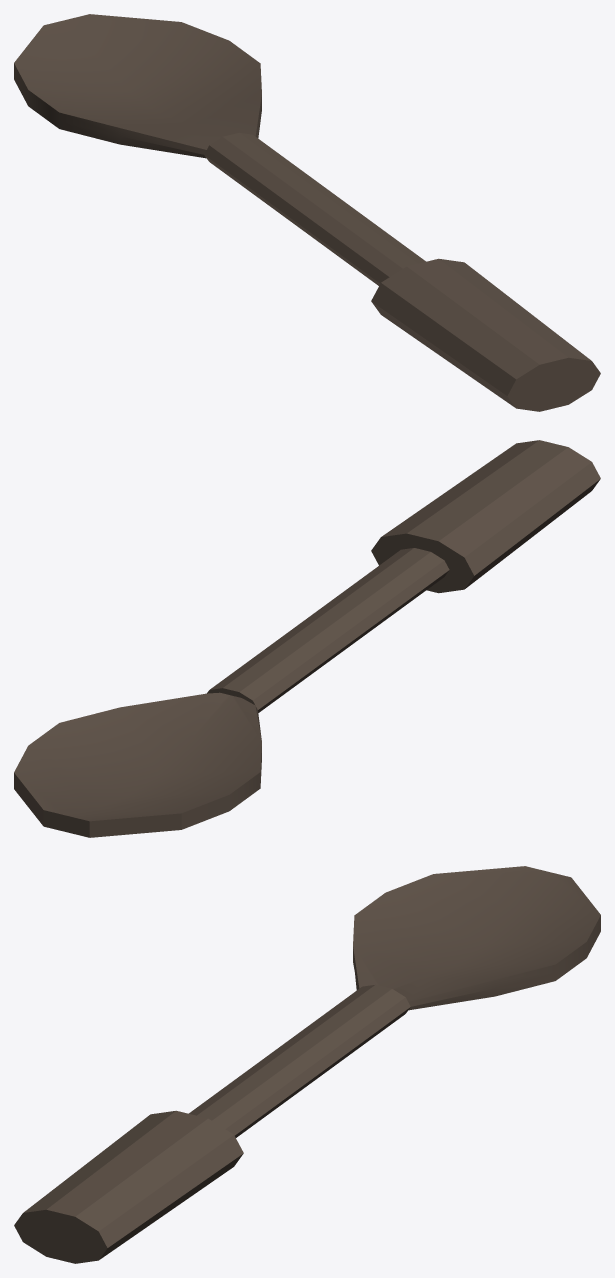
File: Spoon.fbx
The picture shows the model from 3 angles, top to bottom: view 1: azimuth 30°, elevation 25°; view 2: azimuth 150°, elevation 25°; view 3: azimuth 330°, elevation 25°; orthographic projection.
Parts seen in each view (by area): view 1: Spoon; view 2: Spoon; view 3: Spoon.
Boxes of the visible parts, x1=… form: Spoon: x1=14, y1=14, x2=600, y2=411; Spoon: x1=14, y1=440, x2=600, y2=837; Spoon: x1=14, y1=866, x2=600, y2=1263.
Bounding box in the file's own units: 0.0374 × 0.0107 × 0.1569.
